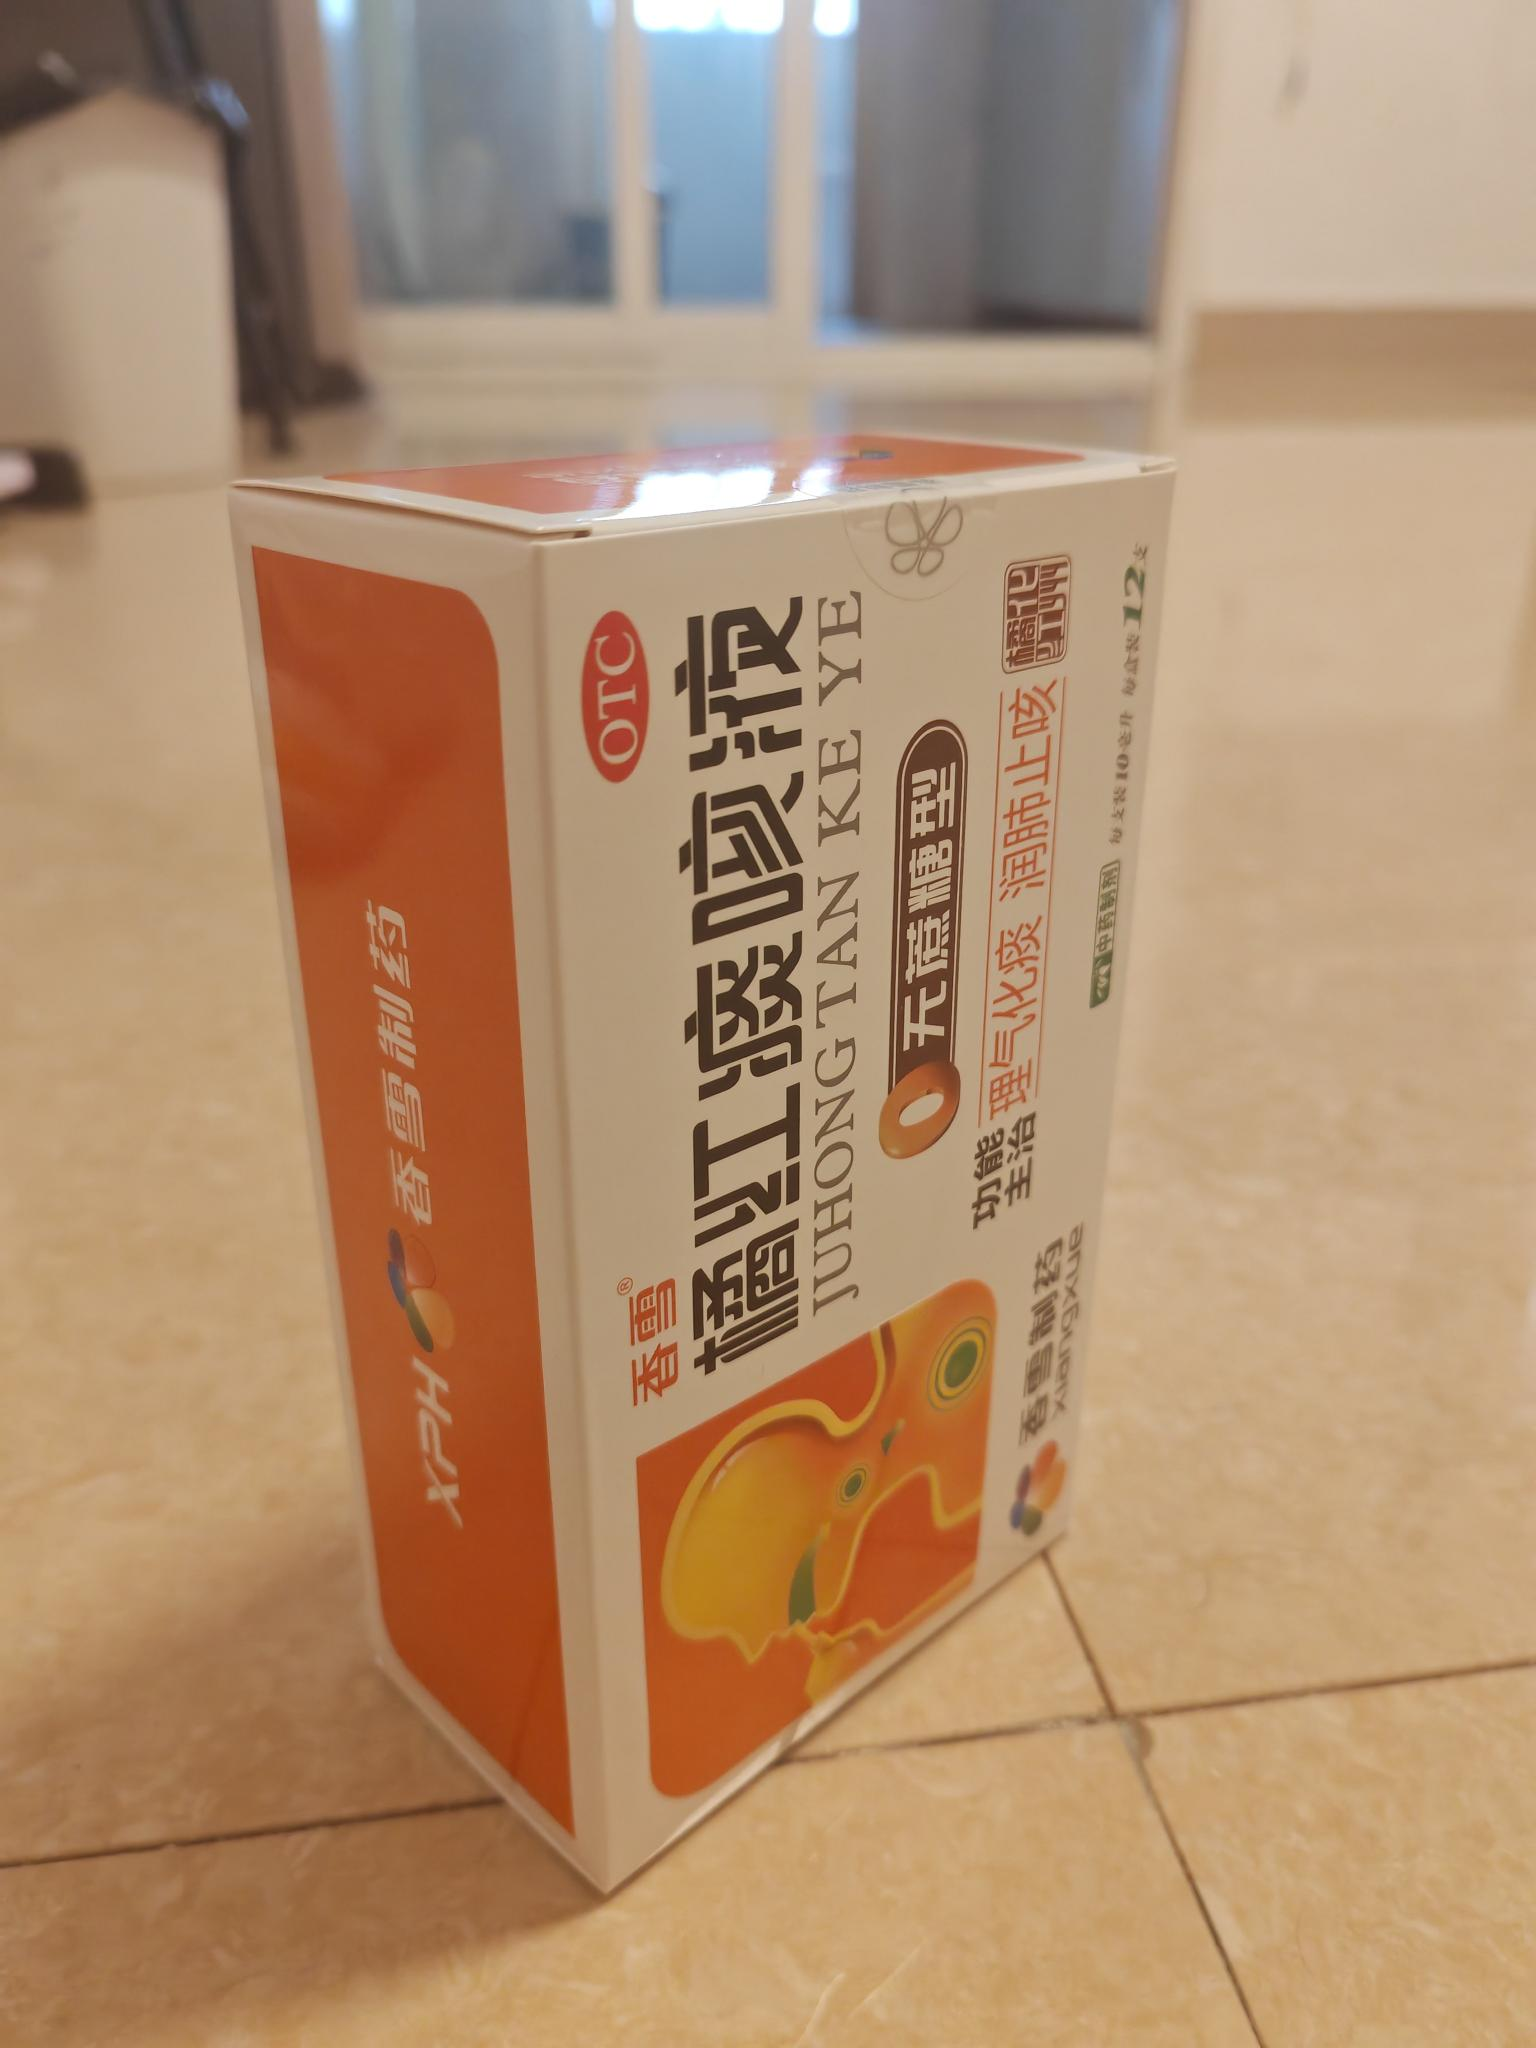Medicine1: (205, 413, 1217, 1917)
